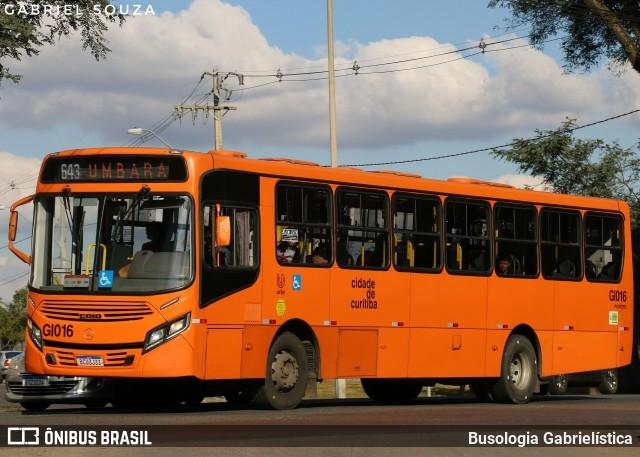UMBARA: (84, 158, 171, 182)
